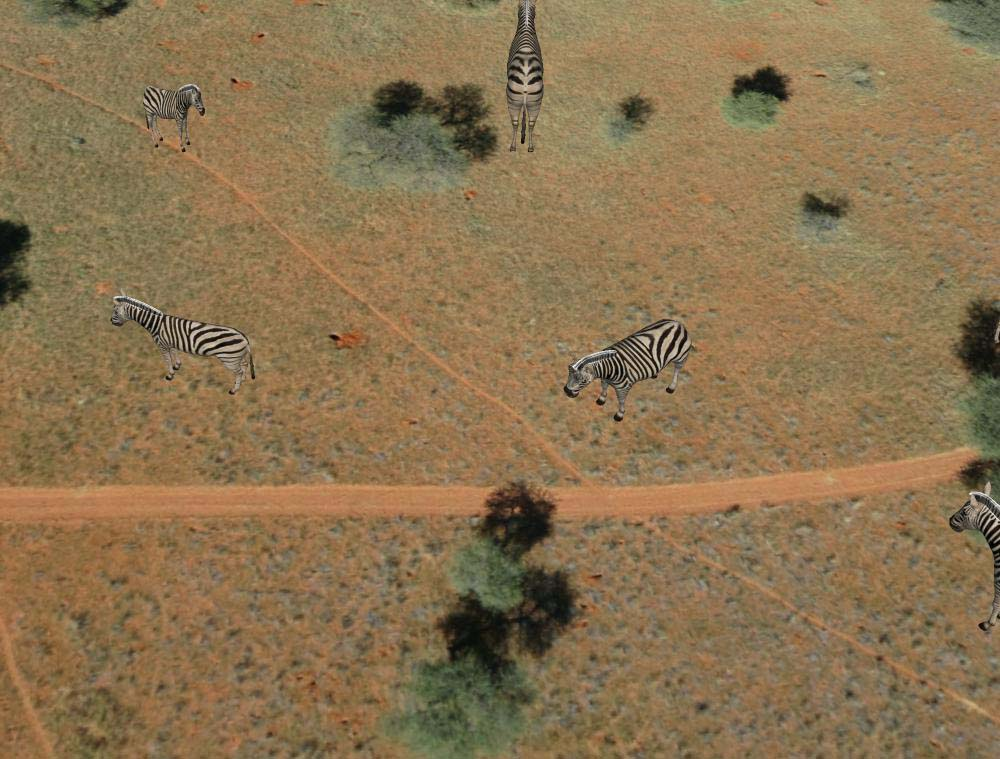zebra: (104, 288, 255, 396), (561, 313, 688, 423), (945, 486, 1000, 627), (498, 5, 548, 153), (139, 83, 207, 154)
